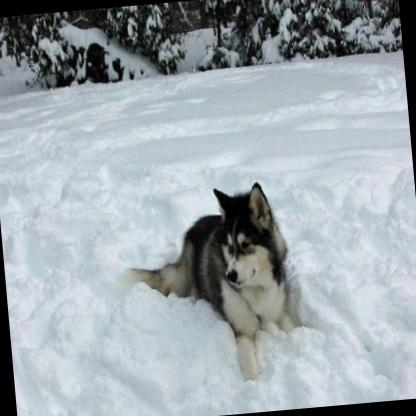malamute: (107, 178, 308, 388)
